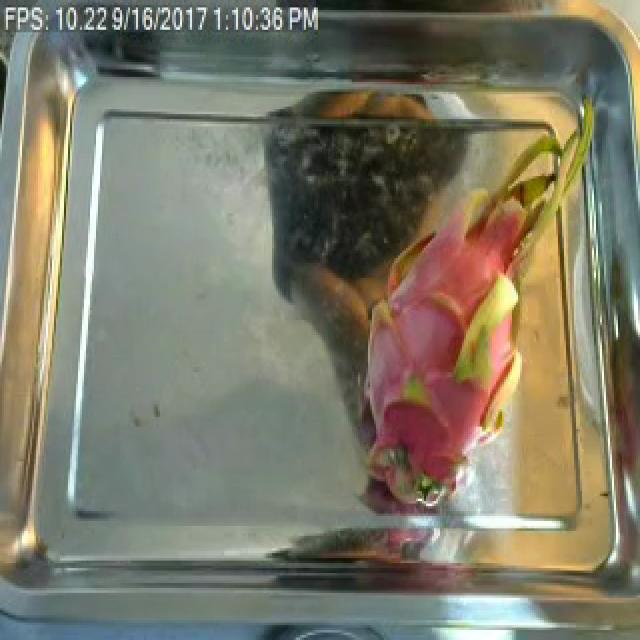fruit: (348, 121, 580, 524)
